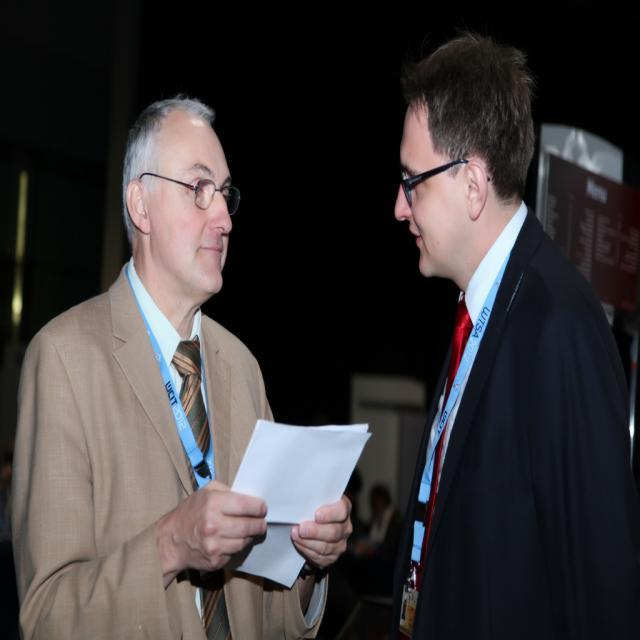Nonhelmet: (369, 18, 550, 294), (118, 93, 242, 299)
